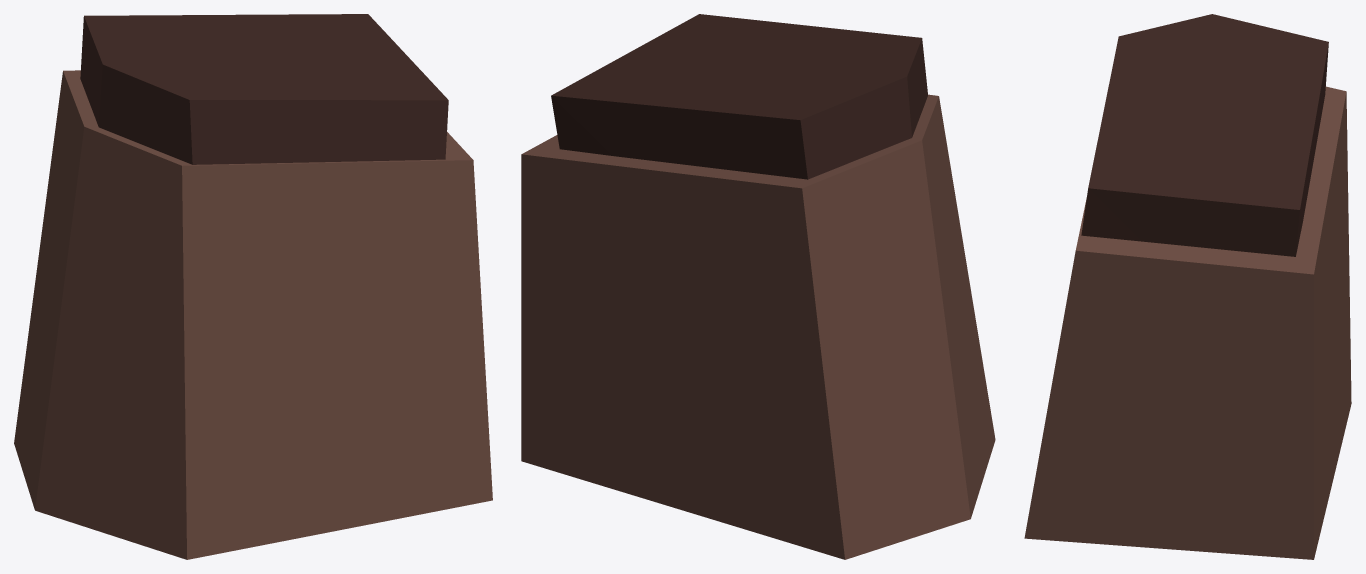
Rendered from Brown_rock_016.fbx.
3 views of the same model, side by side, from view 1: azimuth 30°, elevation 25°; view 2: azimuth 150°, elevation 25°; view 3: azimuth 270°, elevation 25° (orthographic). The views are drawn at different scales.
Visible parts, largest first — view 1: Brown_rock_016; view 2: Brown_rock_016; view 3: Brown_rock_016.
Part boxes in pixels (bbox=[...]): Brown_rock_016: bbox=[14, 14, 492, 559]; Brown_rock_016: bbox=[521, 14, 995, 559]; Brown_rock_016: bbox=[1024, 14, 1351, 559].
Size of the model in its own units: 155 by 119 by 159.
